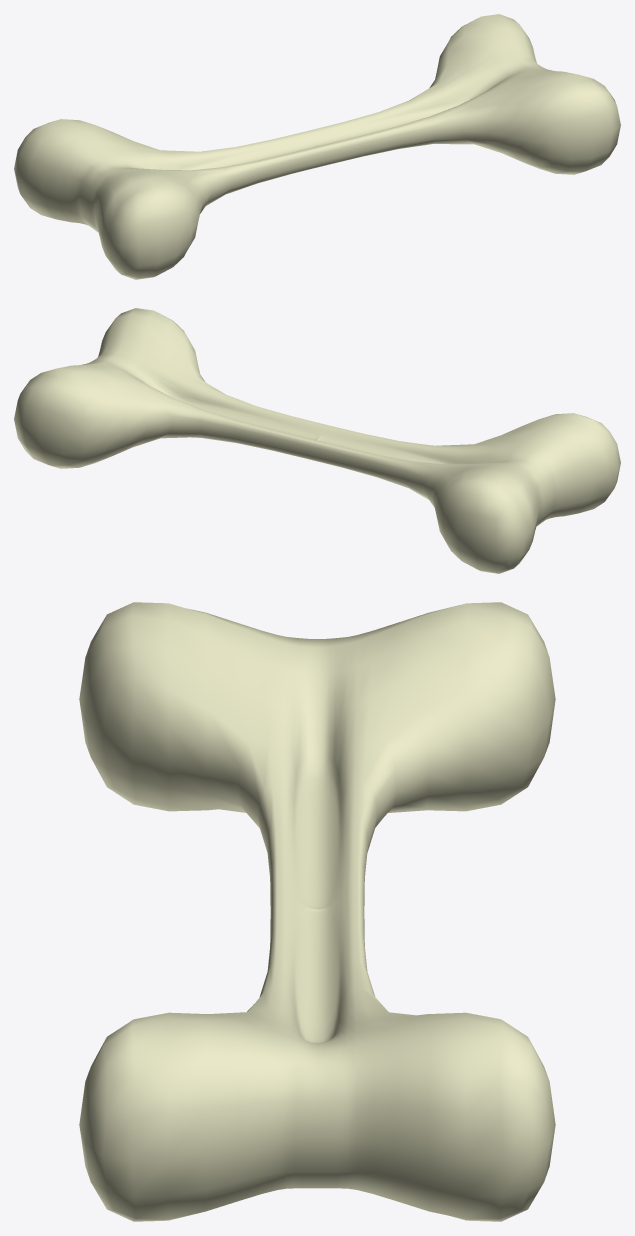
File: hueso1.fbx
3 renders of one model, top to bottom at view 1: azimuth 30°, elevation 25°; view 2: azimuth 150°, elevation 25°; view 3: azimuth 270°, elevation 25°, orthographic. The views are drawn at different scales.
Parts seen in each view (by area): view 1: Cube; view 2: Cube; view 3: Cube.
Boxes of the visible parts, x1=… form: Cube: x1=14, y1=14, x2=620, y2=279; Cube: x1=14, y1=308, x2=620, y2=573; Cube: x1=79, y1=602, x2=555, y2=1221.
Size of the model in its own units: 67.6 by 11.61 by 27.38.
